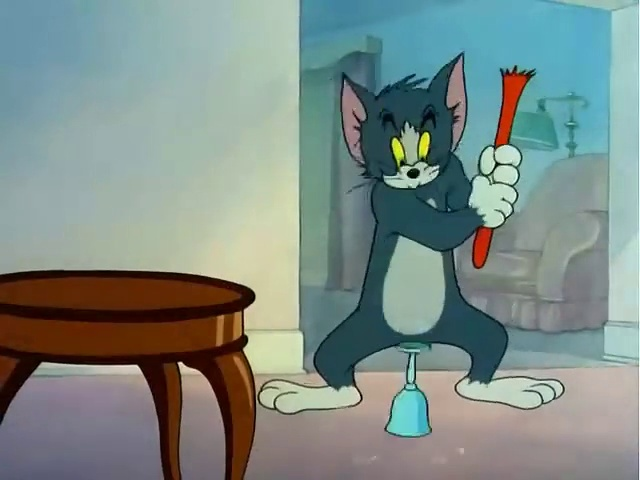tom: (261, 21, 587, 415)
